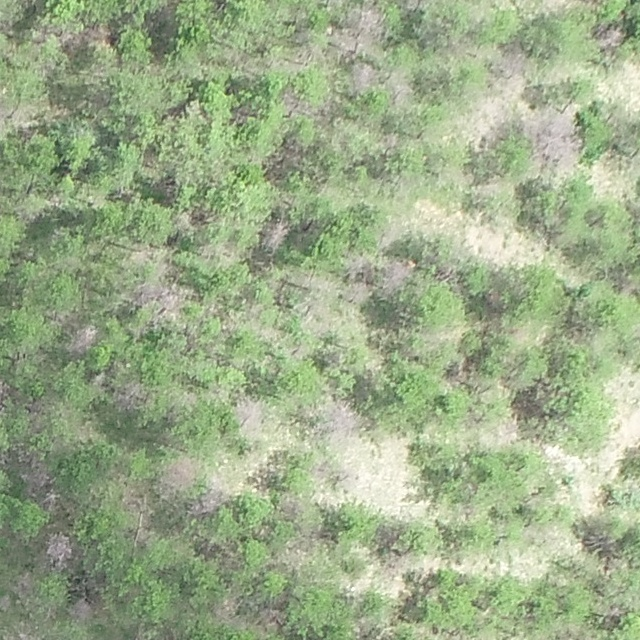unhealthy: (523, 114, 584, 170), (486, 44, 529, 77), (384, 256, 414, 301), (329, 399, 365, 435), (164, 454, 198, 489), (237, 396, 266, 437), (65, 323, 97, 354), (342, 249, 376, 278), (586, 530, 619, 558), (347, 7, 381, 34), (45, 533, 72, 567), (264, 215, 290, 250), (122, 381, 154, 409), (594, 23, 628, 48), (83, 22, 112, 50), (340, 280, 371, 306), (350, 61, 374, 91), (197, 489, 228, 512), (21, 468, 50, 492), (278, 546, 306, 570), (277, 494, 305, 518), (12, 441, 40, 465), (262, 609, 288, 634), (69, 597, 93, 622), (14, 571, 37, 597), (42, 488, 62, 516), (158, 292, 182, 315)
